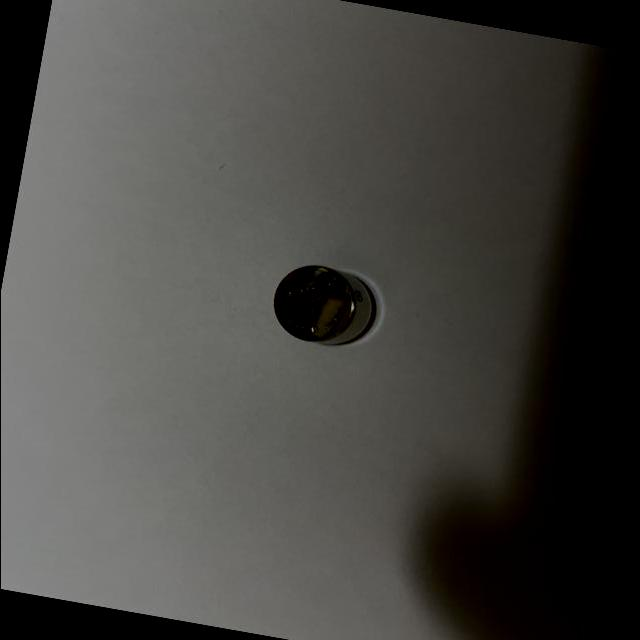COIN: (268, 257, 382, 352)
